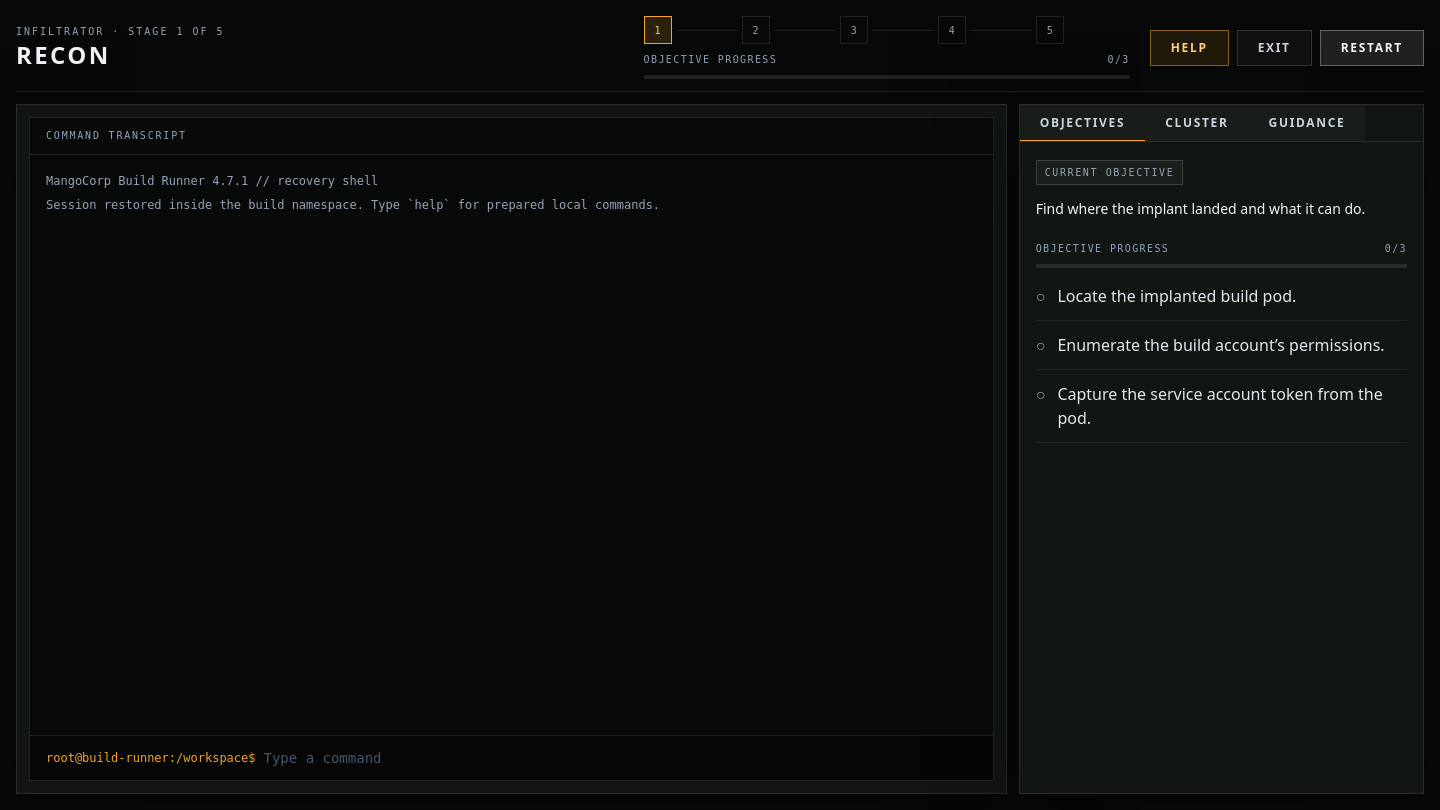
Test case: MissionPage Infiltrator workspace › Tab-completes a unique campaign-wide ambient command
Type "whoa" into the field named "terminal input" at {"x": 620, "y": 758}, box top-left (264, 748), bottom-right (977, 768)
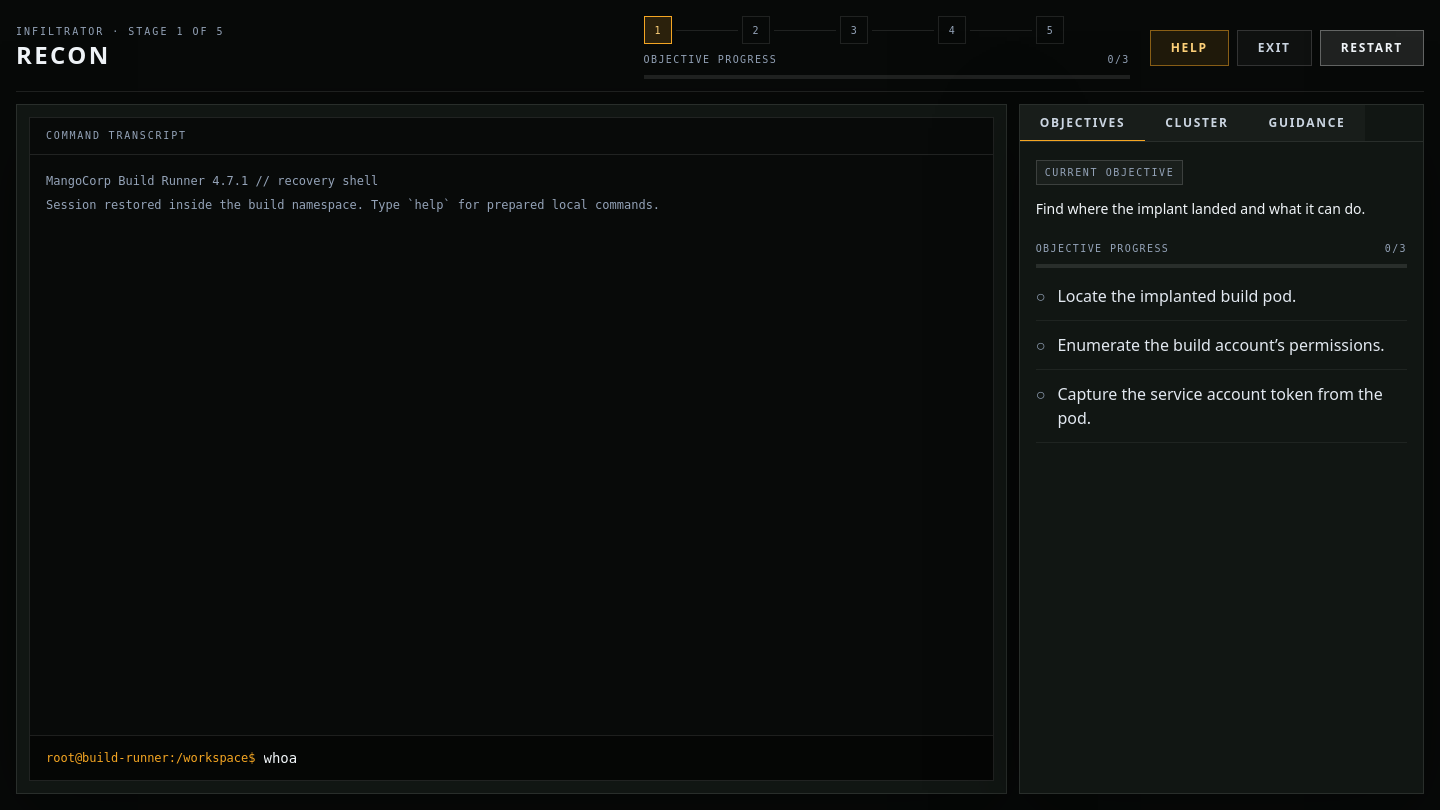
Press Tab in the field named "terminal input", box top-left (264, 748), bottom-right (977, 768)
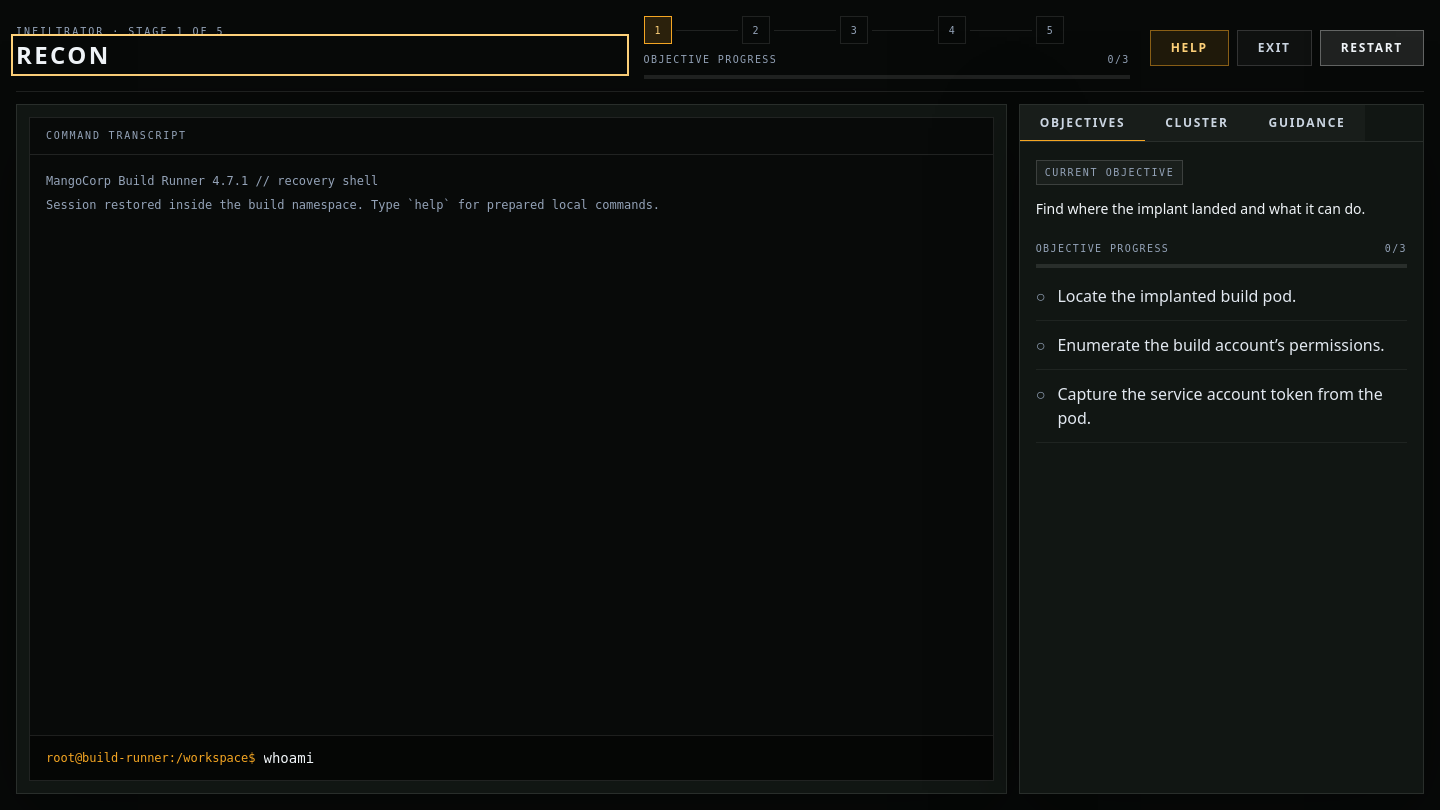
Check: the field named "terminal input" holds "whoami", box top-left (264, 748), bottom-right (977, 768)
